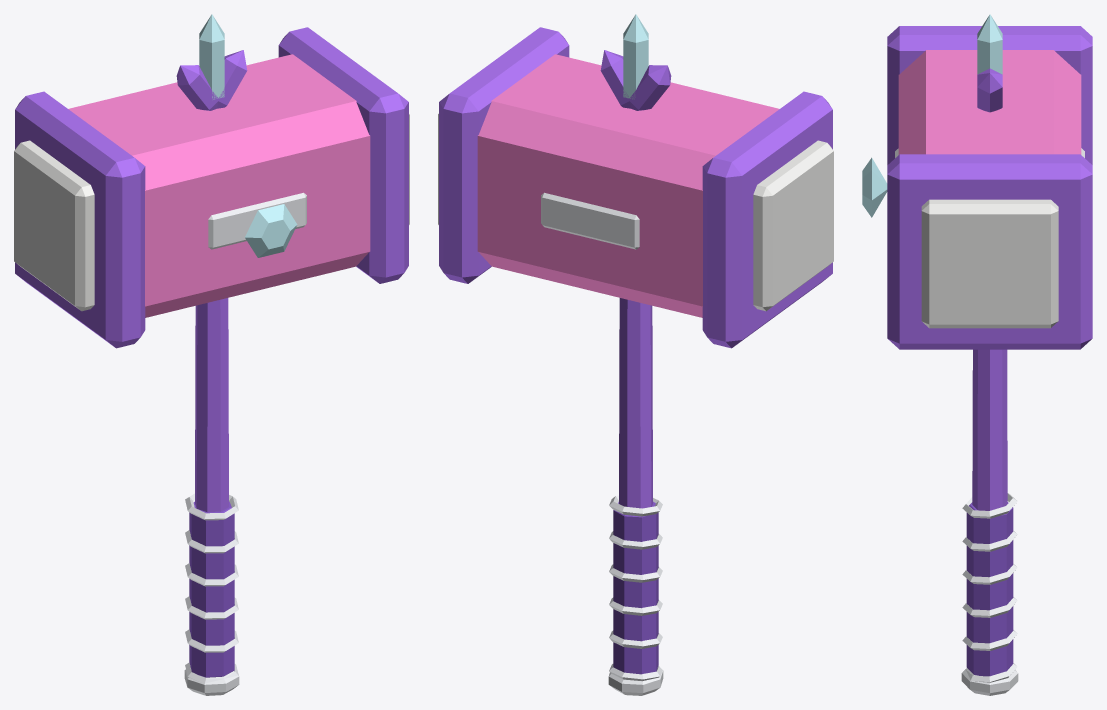
Rendered from CrystalHammer.fbx.
3 views of the same model, side by side, from view 1: azimuth 30°, elevation 25°; view 2: azimuth 150°, elevation 25°; view 3: azimuth 270°, elevation 25° (orthographic).
Parts seen in each view (by area): view 1: CrystalHammer; view 2: CrystalHammer; view 3: CrystalHammer.
Boxes of the visible parts, x1=… form: CrystalHammer: x1=14, y1=14, x2=409, y2=695; CrystalHammer: x1=438, y1=14, x2=833, y2=695; CrystalHammer: x1=862, y1=14, x2=1092, y2=695.
Size of the model in its own units: 2.54 by 4.88 by 1.52.
Materials: 1 (1 with a texture image).
